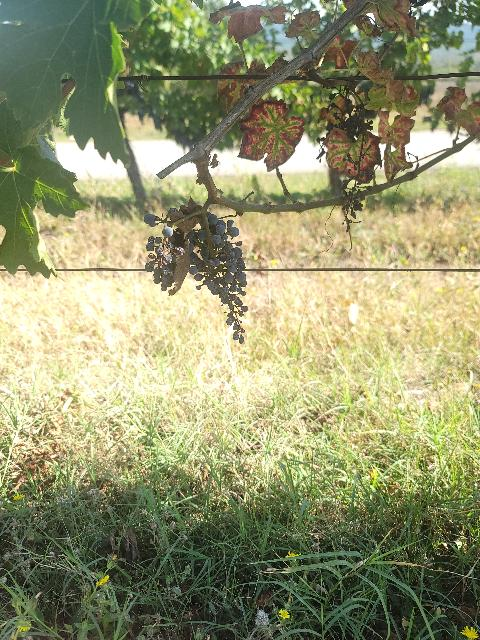grapes: (185, 212, 248, 342), (145, 225, 181, 290)
